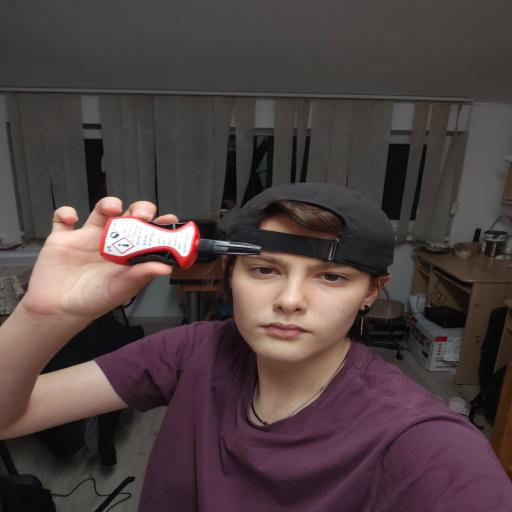Super Glue: (97, 209, 258, 276)
